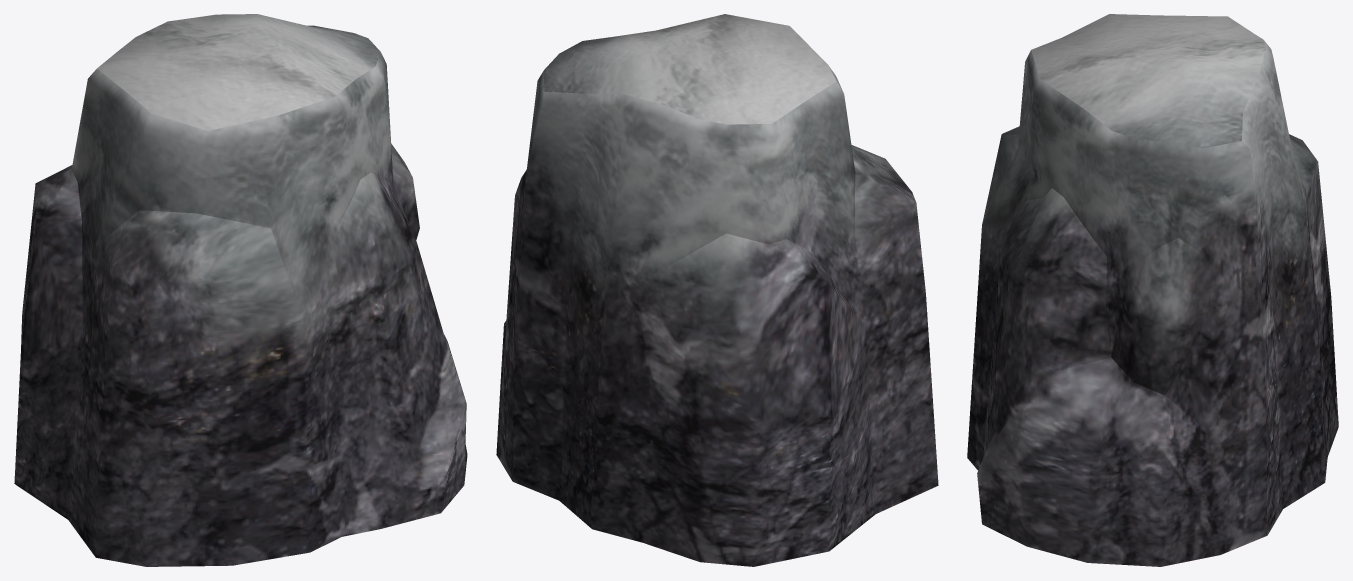
The model's file is snow_d_a03a.fbx.
3 renders of one model, left to right at view 1: azimuth 30°, elevation 25°; view 2: azimuth 150°, elevation 25°; view 3: azimuth 270°, elevation 25°, orthographic.
Parts seen in each view (by area): view 1: d_a03a; view 2: d_a03a; view 3: d_a03a.
Part boxes in pixels (left/top/right/bottom): d_a03a: left=14, top=14, right=467, bottom=566; d_a03a: left=496, top=14, right=938, bottom=566; d_a03a: left=967, top=14, right=1338, bottom=566.
Size of the model in its own units: 944 by 994 by 784.
